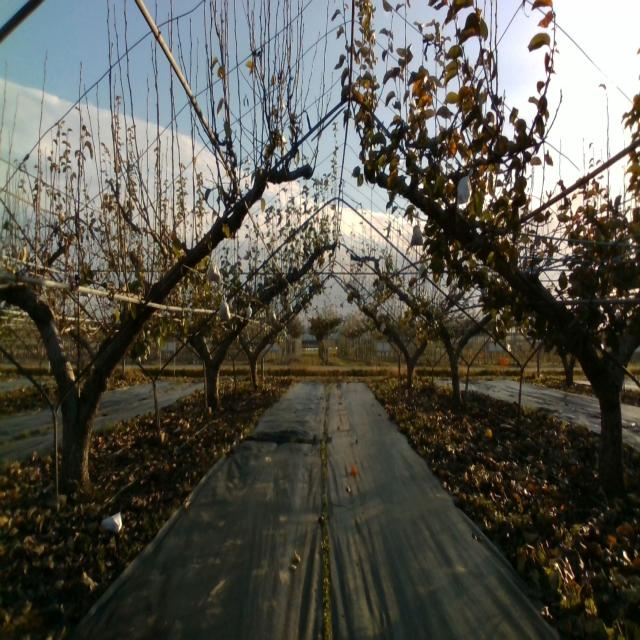pearbags: (456, 168, 474, 206), (207, 261, 221, 281), (411, 225, 423, 246), (218, 299, 230, 320)
